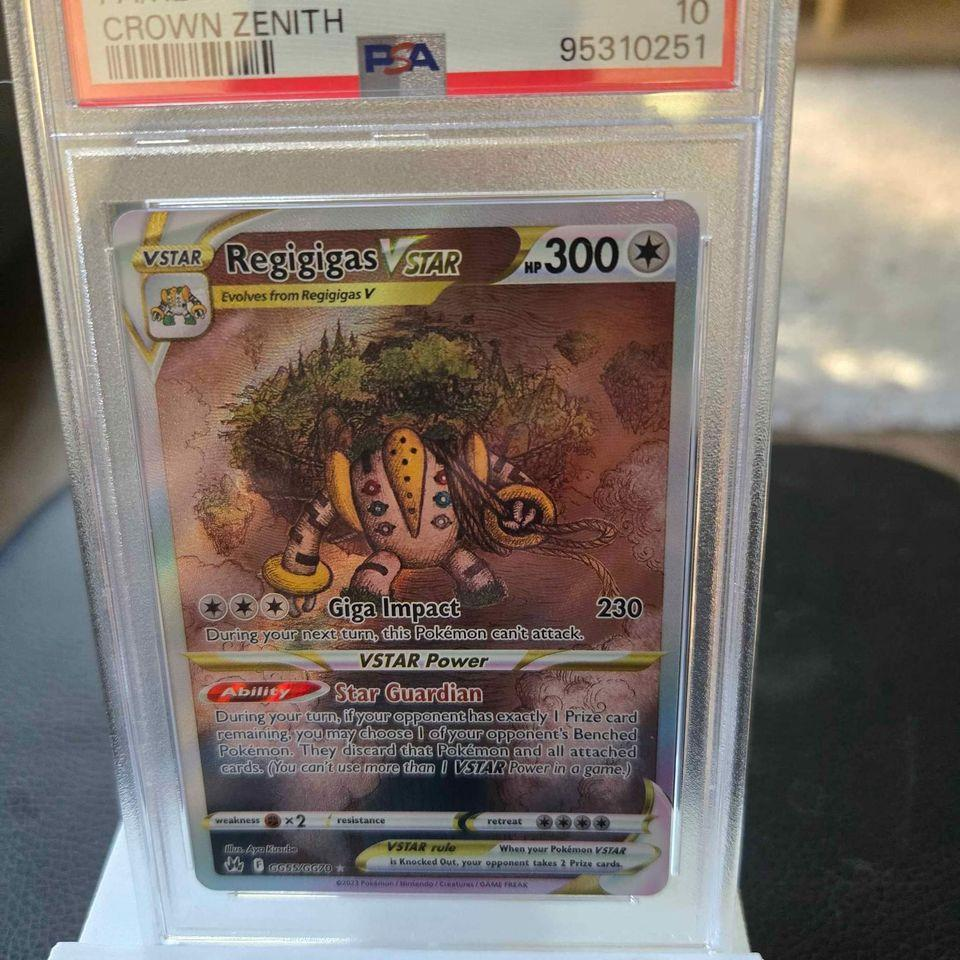card: (110, 197, 705, 898)
name: (226, 229, 476, 293)
set num: (268, 861, 335, 875)
set symbol: (219, 856, 248, 876)
